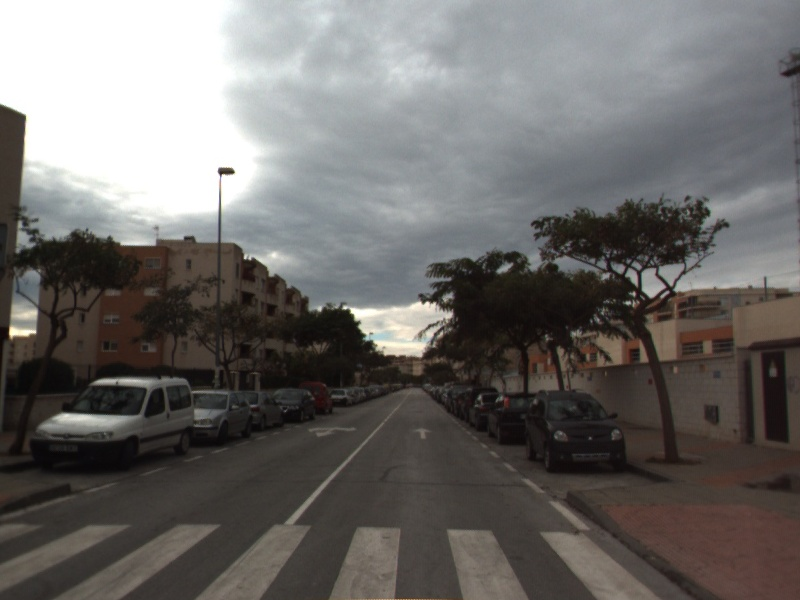STRAIGHT: (411, 425, 434, 441)
